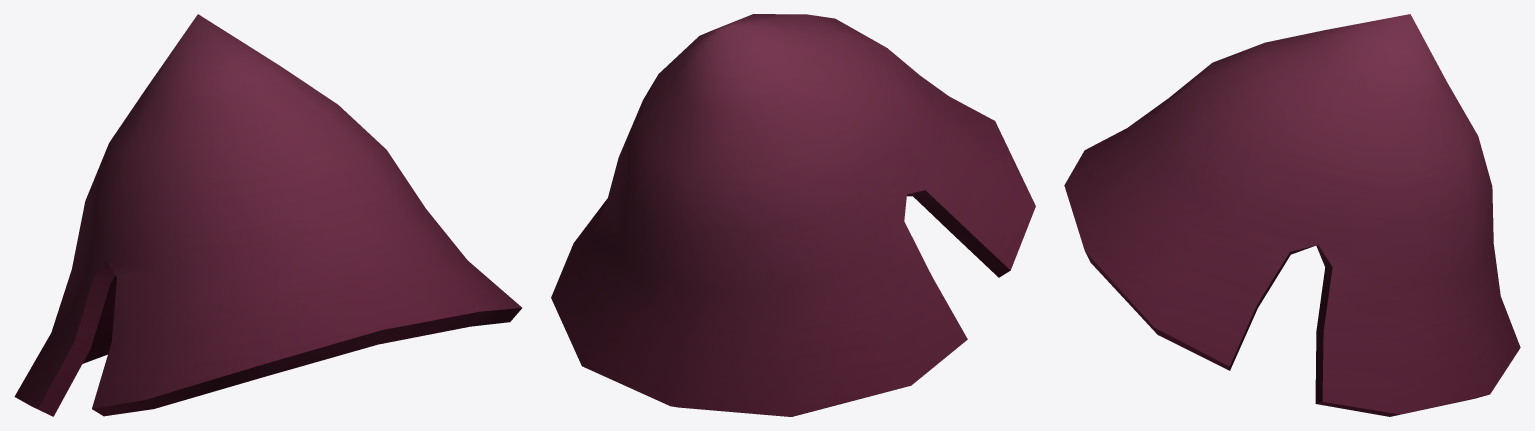
Rendered from Hat 01.FBX.
3 views of the same model, side by side, from view 1: azimuth 30°, elevation 25°; view 2: azimuth 150°, elevation 25°; view 3: azimuth 270°, elevation 25° (orthographic). The views are drawn at different scales.
Parts seen in each view (by area): view 1: Hat 01; view 2: Hat 01; view 3: Hat 01.
Part boxes in pixels (bbox=[...]): Hat 01: bbox=[14, 14, 521, 416]; Hat 01: bbox=[551, 14, 1035, 416]; Hat 01: bbox=[1064, 14, 1520, 416].
Bounding box in the file's own units: 84.51 × 70.71 × 85.75.
